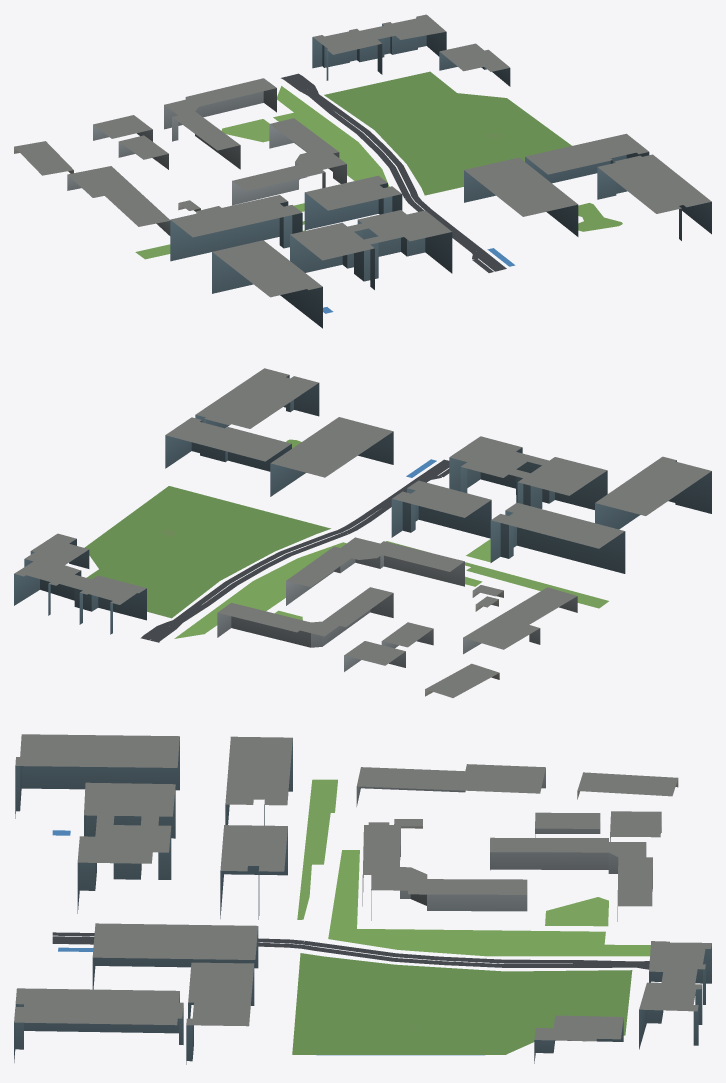
The picture shows the model from 3 angles, top to bottom: view 1: azimuth 30°, elevation 25°; view 2: azimuth 150°, elevation 25°; view 3: azimuth 270°, elevation 25°; orthographic projection. The views are drawn at different scales.
Visible parts, largest first — view 1: building, ground; view 2: building, ground; view 3: building, ground.
Part boxes in pixels (x1=…): building: x1=14, y1=14, x2=711, y2=328; ground: x1=135, y1=71, x2=622, y2=272; building: x1=14, y1=368, x2=711, y2=697; ground: x1=84, y1=439, x2=608, y2=642; building: x1=14, y1=734, x2=711, y2=1064; ground: x1=52, y1=779, x2=650, y2=1054.
Bounding box in the file's own units: 523 × 46 × 536.
